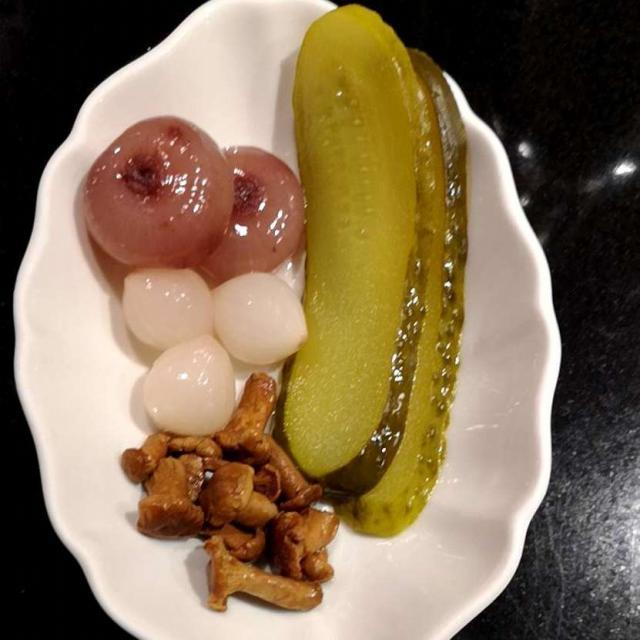cucumber-pickled: (285, 19, 469, 536)
